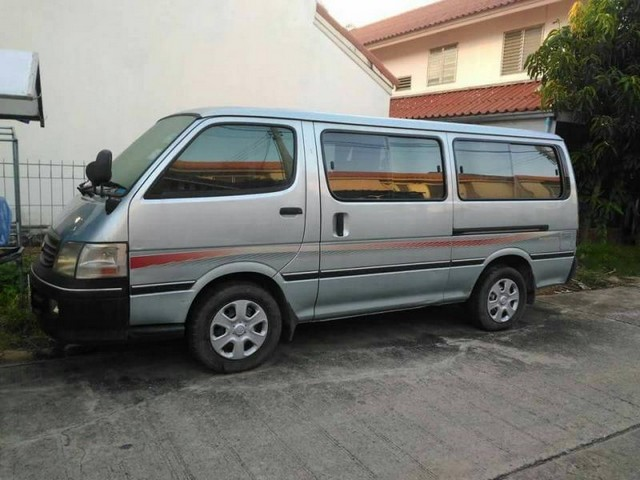van: (23, 102, 579, 373)
